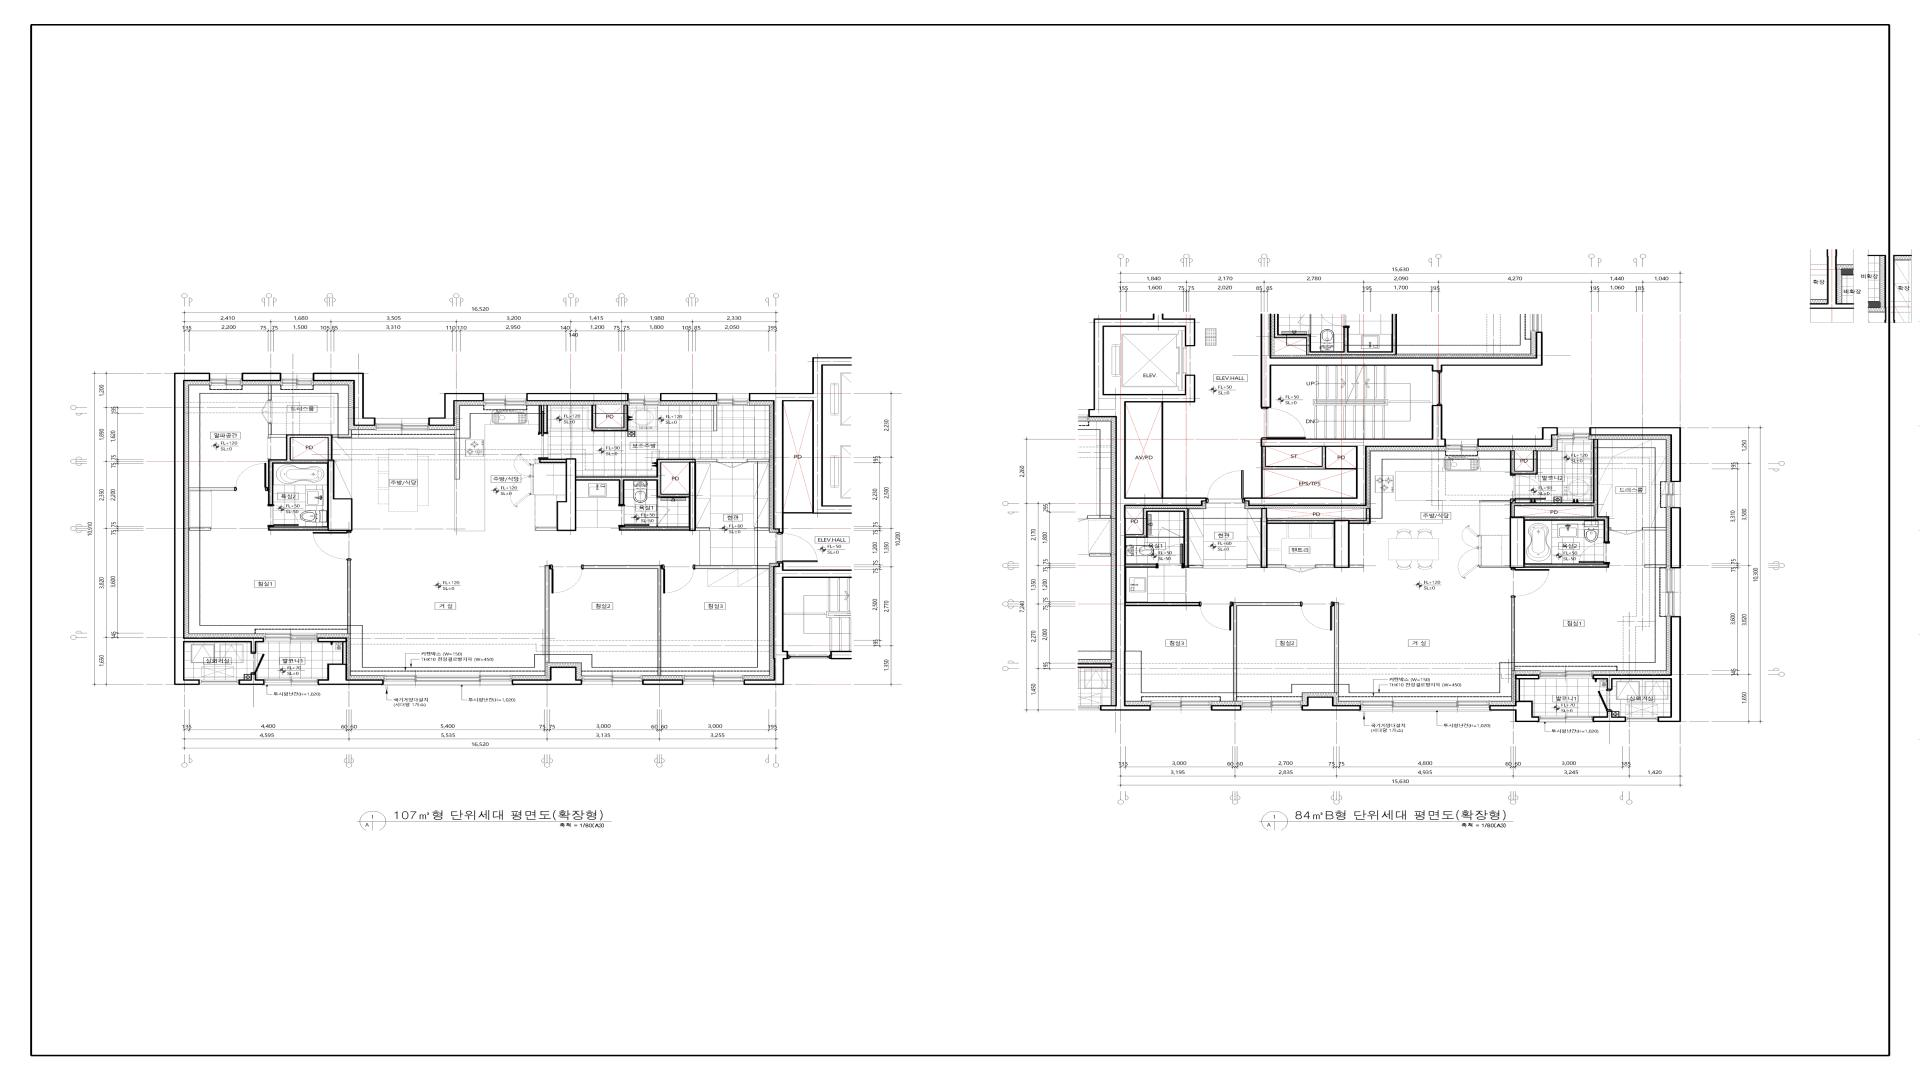door: (1261, 407, 1307, 439), (777, 533, 818, 563), (1510, 568, 1551, 597), (1207, 471, 1244, 502), (313, 531, 352, 560), (661, 564, 695, 593), (550, 564, 584, 593), (1300, 601, 1333, 630), (1200, 601, 1233, 630), (235, 463, 268, 492), (1510, 475, 1547, 500), (618, 504, 650, 527), (268, 505, 299, 526), (1156, 543, 1183, 568), (1578, 543, 1610, 563), (251, 653, 265, 674), (717, 459, 748, 468), (1598, 690, 1611, 711), (657, 506, 670, 526), (1610, 527, 1642, 535), (261, 400, 272, 423), (1286, 566, 1316, 572)
wall: (1088, 314, 1207, 711), (174, 373, 264, 684), (1261, 314, 1543, 407), (1244, 405, 1445, 506), (749, 357, 852, 533), (744, 563, 852, 686), (1510, 439, 1609, 543), (1593, 616, 1681, 723), (584, 566, 662, 675), (1233, 603, 1300, 702), (576, 459, 696, 505), (1590, 427, 1681, 481), (268, 434, 332, 504), (1126, 508, 1188, 568), (313, 373, 376, 426), (429, 393, 484, 426), (1478, 427, 1557, 447), (318, 663, 384, 686), (1261, 447, 1327, 469), (512, 667, 583, 684), (1490, 702, 1539, 723), (591, 405, 629, 431), (1302, 696, 1361, 711), (291, 438, 328, 460), (526, 393, 629, 401), (1510, 517, 1524, 568), (1335, 520, 1349, 568), (1510, 450, 1538, 475), (1671, 508, 1681, 568), (661, 393, 717, 401), (1524, 563, 1609, 568), (690, 463, 696, 530), (1261, 508, 1267, 568), (1593, 711, 1626, 723), (1126, 601, 1199, 607), (545, 566, 549, 662), (1335, 603, 1338, 692), (1350, 508, 1371, 524), (239, 674, 265, 686), (241, 373, 281, 381), (268, 526, 327, 531), (695, 566, 769, 570), (1511, 597, 1515, 671), (347, 560, 351, 633), (642, 679, 683, 686), (268, 423, 286, 438), (455, 430, 460, 480), (1267, 520, 1333, 524), (618, 527, 690, 530), (332, 430, 352, 438), (1212, 705, 1241, 711), (543, 406, 549, 433), (189, 488, 235, 491), (1126, 563, 1156, 567), (318, 638, 347, 642), (1515, 679, 1520, 700), (539, 459, 566, 463), (713, 406, 717, 431), (1515, 675, 1539, 679), (535, 527, 556, 531), (539, 405, 542, 434), (1642, 527, 1667, 530), (189, 527, 211, 530), (1644, 564, 1667, 567), (1246, 564, 1261, 568), (268, 385, 272, 400), (748, 459, 769, 462), (696, 459, 717, 462), (1267, 564, 1286, 567), (1316, 564, 1333, 567), (1349, 566, 1364, 568), (754, 527, 769, 530), (1189, 566, 1204, 568), (696, 527, 709, 530), (657, 497, 658, 506)
window: (1361, 700, 1490, 712), (384, 675, 512, 684), (1665, 568, 1680, 616), (1150, 700, 1212, 711), (1241, 700, 1302, 711), (376, 418, 429, 430), (582, 675, 642, 684), (683, 675, 744, 684), (484, 394, 526, 406), (1557, 427, 1590, 440), (1539, 670, 1593, 678), (264, 633, 318, 641), (629, 393, 661, 406), (717, 393, 749, 406), (1445, 439, 1478, 451), (1665, 481, 1680, 508), (210, 373, 241, 385), (281, 373, 313, 385), (1539, 716, 1593, 723), (1432, 372, 1443, 405), (265, 679, 318, 684), (200, 680, 239, 684), (1626, 717, 1658, 721)
